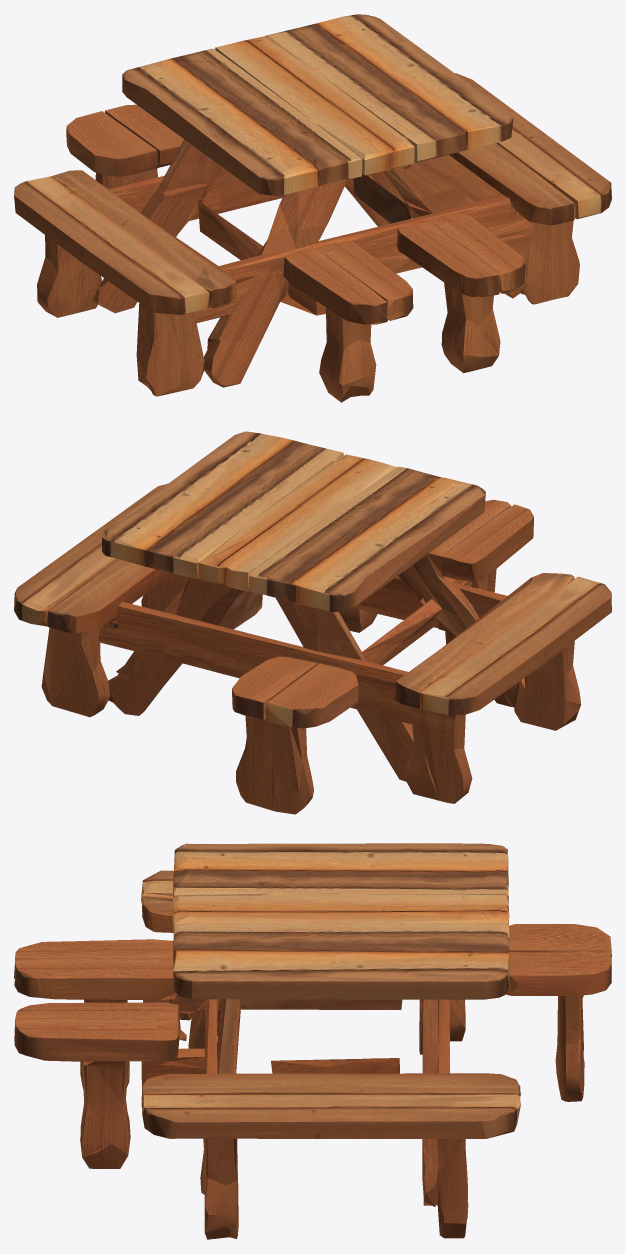
Rendered from picnic_table.glb.
3 renders of one model, top to bottom at view 1: azimuth 30°, elevation 25°; view 2: azimuth 150°, elevation 25°; view 3: azimuth 270°, elevation 25°, orthographic. The views are drawn at different scales.
Bounding box in the file's own units: 1.89 × 0.8043 × 1.9.
1 material, 1 textured.
